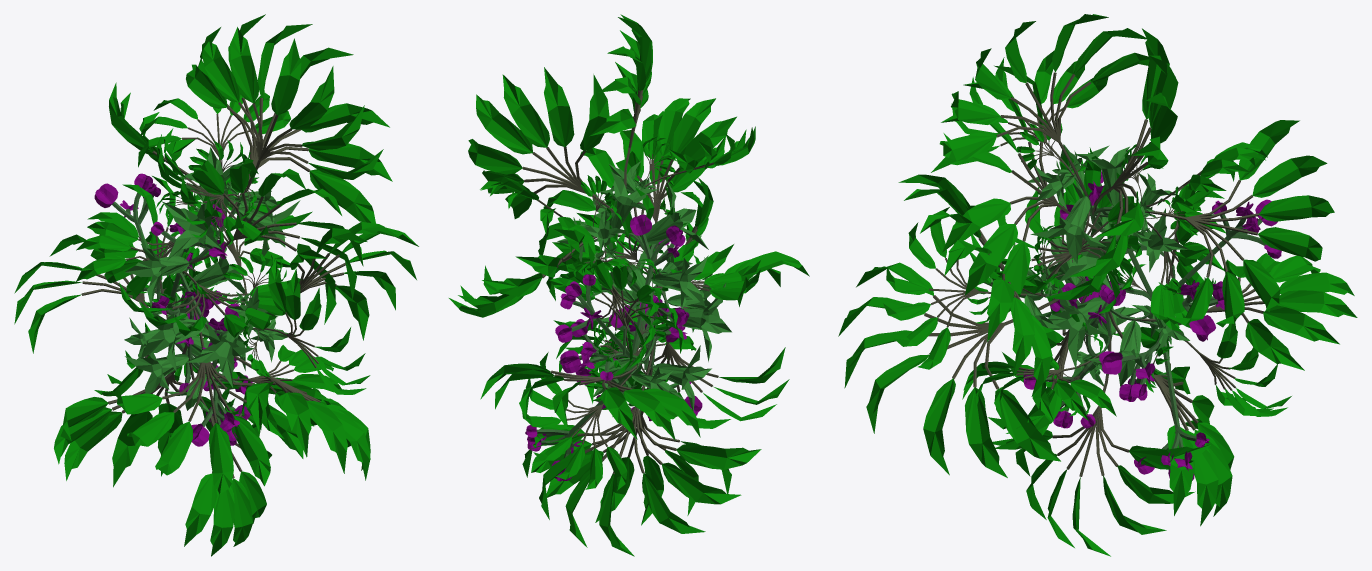
Rendered from plants1.obj.
3 views of the same model, side by side, from view 1: azimuth 30°, elevation 25°; view 2: azimuth 150°, elevation 25°; view 3: azimuth 270°, elevation 25° (orthographic). The views are drawn at different scales.
Parts seen in each view (by area): view 1: 1Newplan; view 2: 1Newplan; view 3: 1Newplan.
Boxes of the visible parts, left/top/right/bottom form: 1Newplan: left=14, top=14, right=418, bottom=556; 1Newplan: left=449, top=14, right=809, bottom=556; 1Newplan: left=838, top=14, right=1357, bottom=556.
Size of the model in its own units: 558 by 876 by 750.
